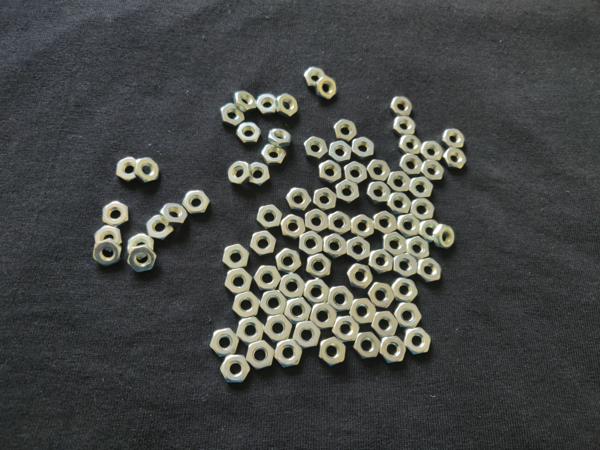nut: (220, 354, 252, 386), (207, 328, 239, 356), (309, 302, 338, 331), (224, 268, 255, 295), (232, 292, 263, 319), (93, 239, 121, 268), (183, 190, 212, 218), (248, 341, 275, 371), (263, 315, 294, 341), (143, 215, 175, 240), (129, 244, 156, 273), (99, 201, 128, 228), (350, 298, 377, 326), (251, 265, 282, 289), (276, 343, 303, 370), (126, 233, 154, 259), (248, 159, 274, 187), (274, 248, 302, 274), (368, 282, 394, 310), (220, 245, 249, 270), (235, 319, 265, 343), (333, 316, 359, 343), (355, 332, 381, 359), (411, 197, 437, 224), (260, 291, 288, 316), (320, 338, 344, 367), (405, 328, 431, 354), (392, 278, 418, 304), (251, 231, 278, 256), (347, 262, 372, 289), (285, 299, 312, 324), (381, 336, 406, 363), (366, 156, 391, 182), (306, 254, 332, 279), (281, 273, 307, 298), (295, 322, 320, 348), (346, 237, 371, 263), (160, 203, 187, 227), (115, 157, 139, 184), (255, 90, 279, 117), (287, 187, 311, 214), (323, 231, 347, 258), (95, 226, 124, 248), (279, 91, 301, 120), (137, 156, 158, 186), (256, 206, 282, 230), (305, 207, 329, 233), (394, 254, 418, 280), (228, 162, 251, 189), (262, 143, 289, 166), (232, 89, 257, 113), (350, 135, 375, 159), (399, 153, 424, 177), (281, 214, 305, 239), (328, 210, 352, 235), (306, 280, 330, 305), (398, 302, 422, 327), (406, 235, 430, 260), (305, 134, 328, 160), (345, 160, 368, 186), (222, 102, 246, 126), (374, 212, 398, 236), (330, 139, 353, 164), (441, 148, 466, 171), (314, 187, 337, 212), (299, 230, 322, 255), (330, 286, 353, 311), (369, 249, 392, 274), (398, 213, 421, 238), (335, 181, 361, 203), (389, 169, 411, 195), (317, 75, 340, 99), (320, 160, 343, 184), (390, 94, 415, 116), (374, 314, 399, 336), (419, 258, 441, 283), (370, 180, 391, 206), (410, 175, 433, 198), (348, 264, 371, 287), (237, 123, 261, 145), (335, 119, 359, 141), (383, 232, 405, 256), (353, 215, 374, 240), (422, 159, 445, 181), (270, 124, 292, 146), (305, 67, 327, 89), (421, 138, 442, 161), (268, 127, 293, 146), (392, 117, 417, 136), (436, 225, 455, 250), (399, 134, 421, 155), (444, 128, 465, 149), (420, 221, 440, 243)
